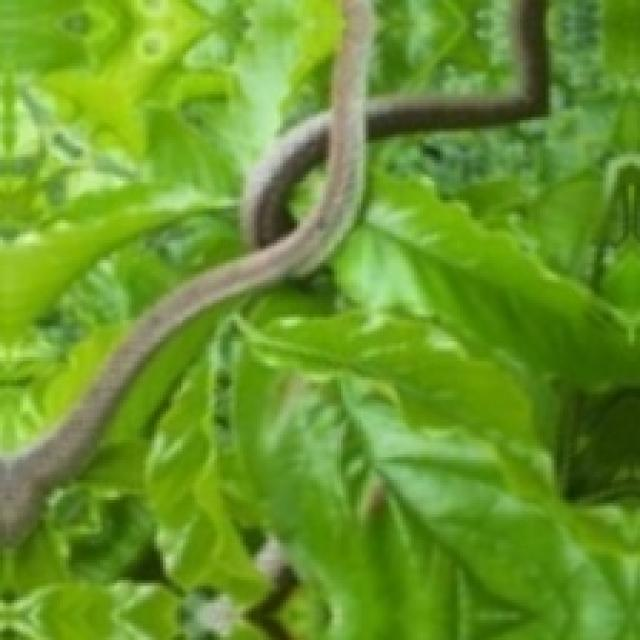paradise tree snake: (0, 0, 546, 543)
